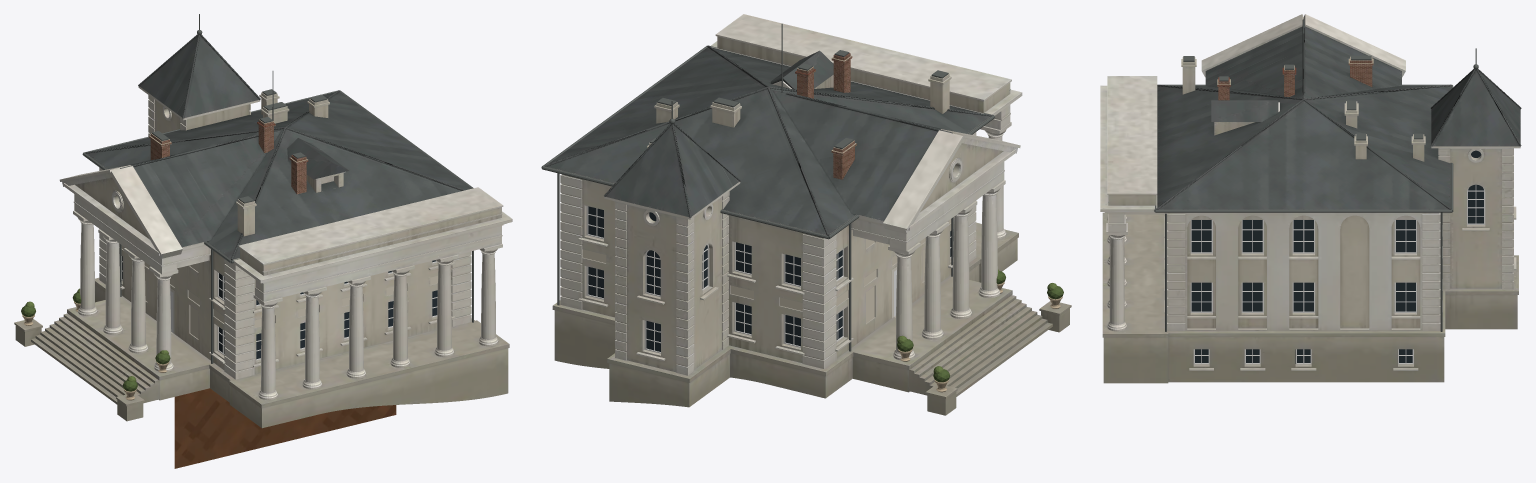
File: worobin-1k.glb
3 views of the same model, side by side, from view 1: azimuth 30°, elevation 25°; view 2: azimuth 150°, elevation 25°; view 3: azimuth 270°, elevation 25° (orthographic). The views are drawn at different scales.
Parts seen in each view (by area): view 1: W_masonry, W_roof, W_GLTF_7, W_pipe, W_brick, W_glass, W_blind; view 2: W_masonry, W_roof, W_glass, W_pipe, W_sash, W_brick, W_blind, W_leaf; view 3: W_masonry, W_roof, W_glass, W_pipe, W_sash, W_brick.
Part boxes in pixels (<box>): W_masonry: <box>14,86,512,428</box>; W_roof: <box>85,34,471,260</box>; W_GLTF_7: <box>174,388,396,468</box>; W_pipe: <box>82,14,473,363</box>; W_brick: <box>149,119,308,194</box>; W_glass: <box>119,200,437,359</box>; W_blind: <box>119,243,451,338</box>; W_masonry: <box>546,14,1071,415</box>; W_roof: <box>544,45,991,235</box>; W_glass: <box>588,168,953,351</box>; W_pipe: <box>541,23,994,351</box>; W_sash: <box>586,206,951,353</box>; W_brick: <box>795,53,856,179</box>; W_blind: <box>583,217,954,323</box>; W_leaf: <box>897,271,1063,382</box>; W_masonry: <box>1100,14,1520,383</box>; W_roof: <box>1156,19,1521,209</box>; W_glass: <box>1191,150,1483,363</box>; W_pipe: <box>1154,33,1478,331</box>; W_sash: <box>1190,185,1485,364</box>; W_brick: <box>1217,56,1373,100</box>.
Size of the model in its own units: 25 by 25.97 by 26.4.
40 materials, 12 textured.
